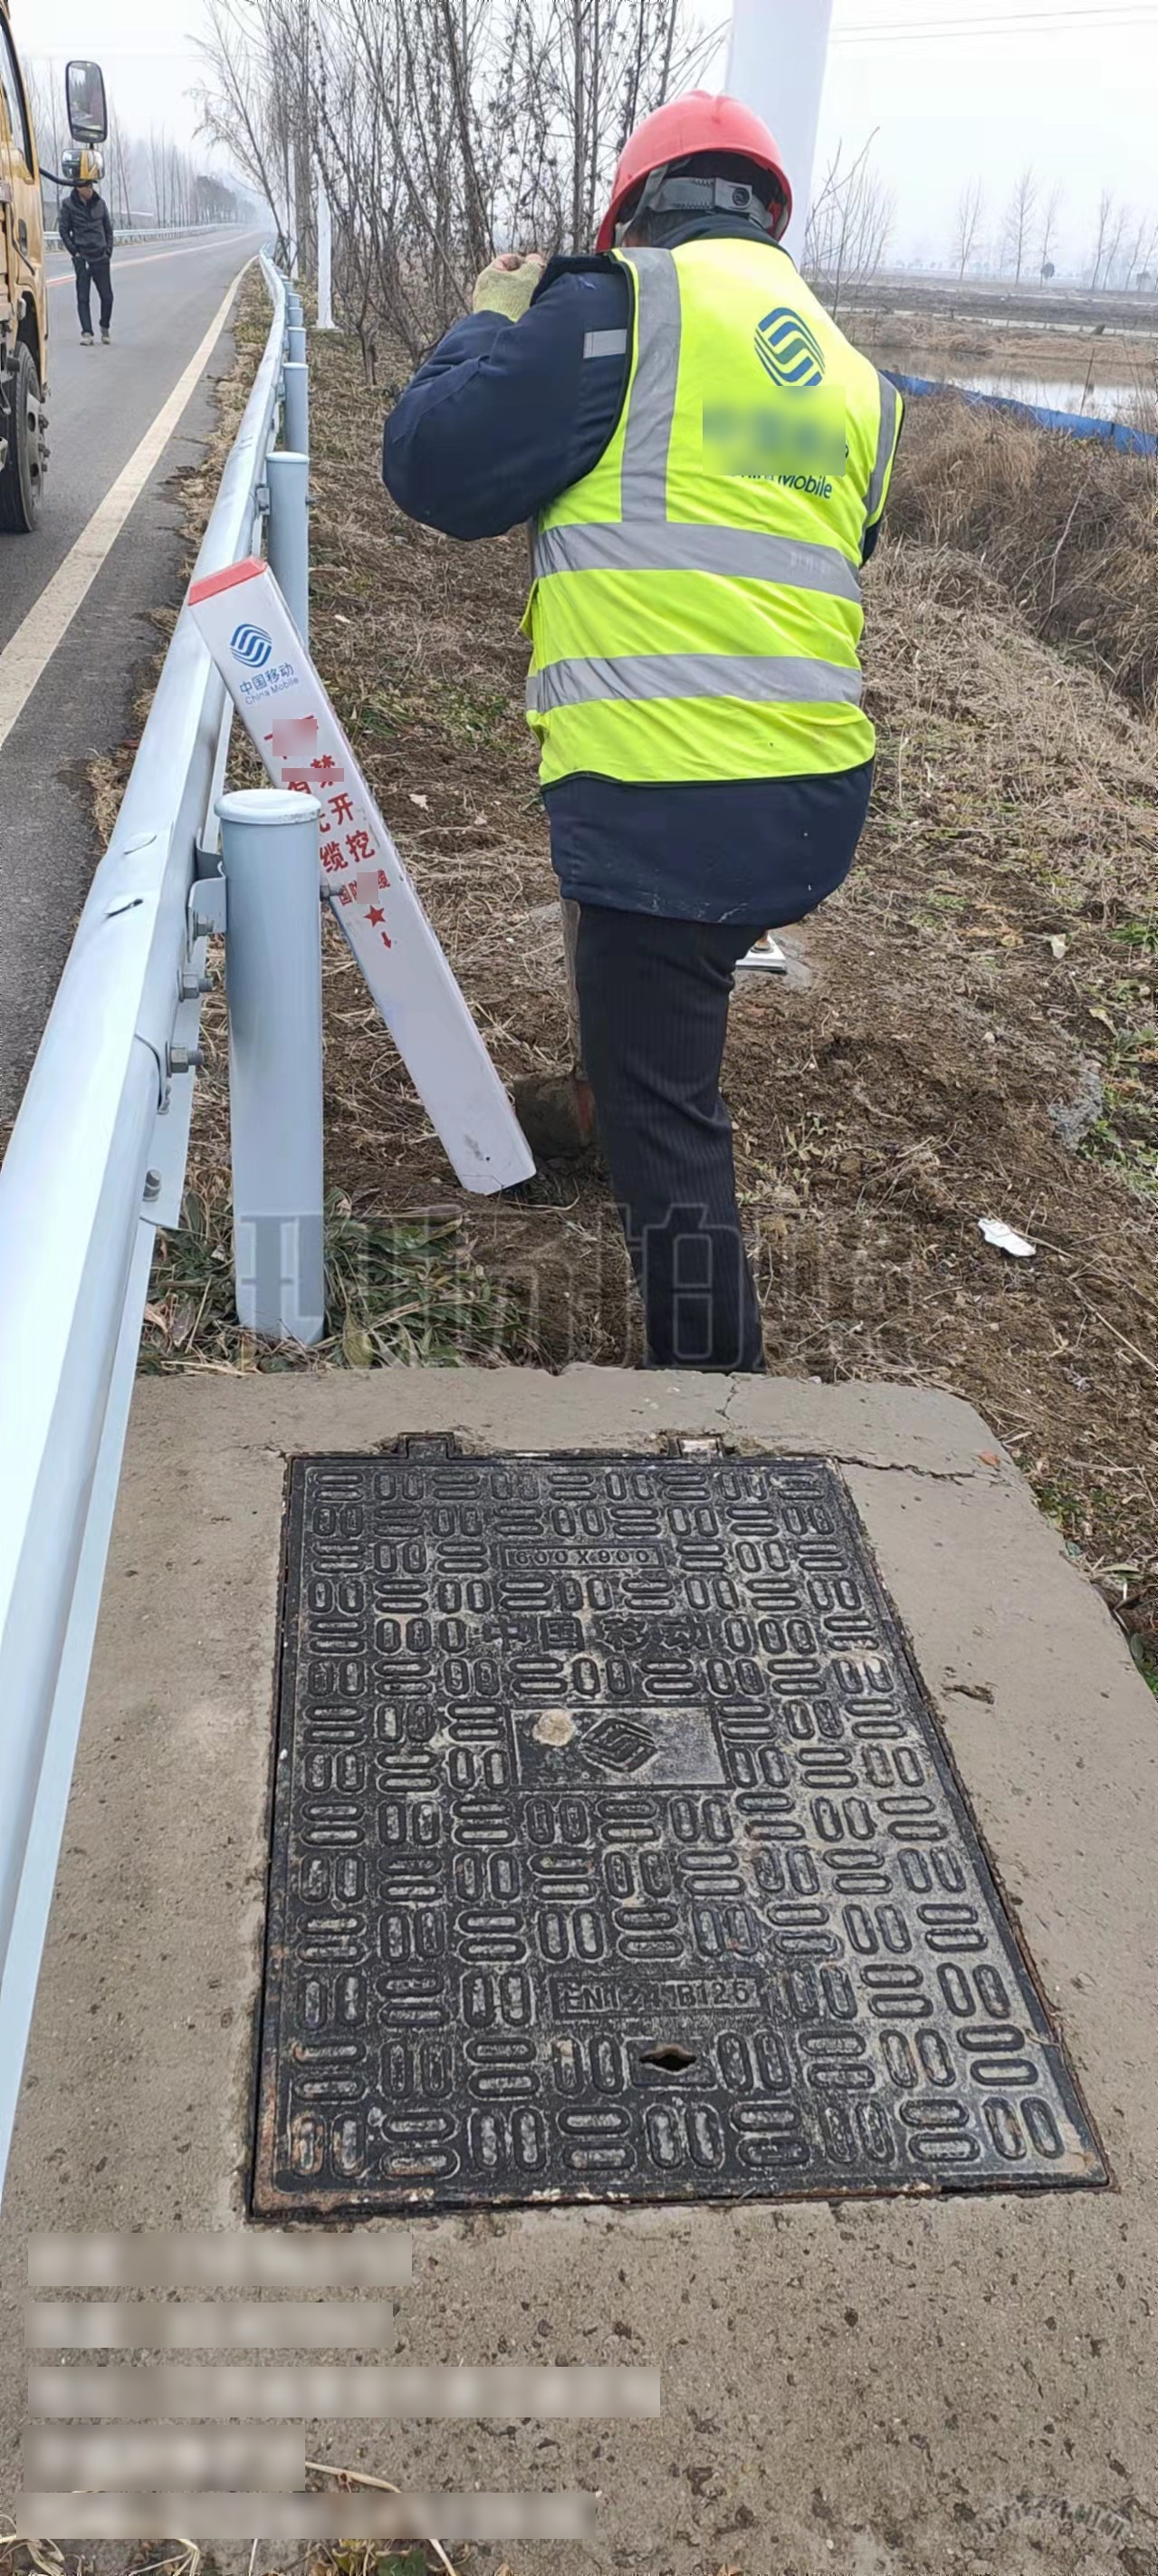good: (245, 1423, 1124, 2216)
